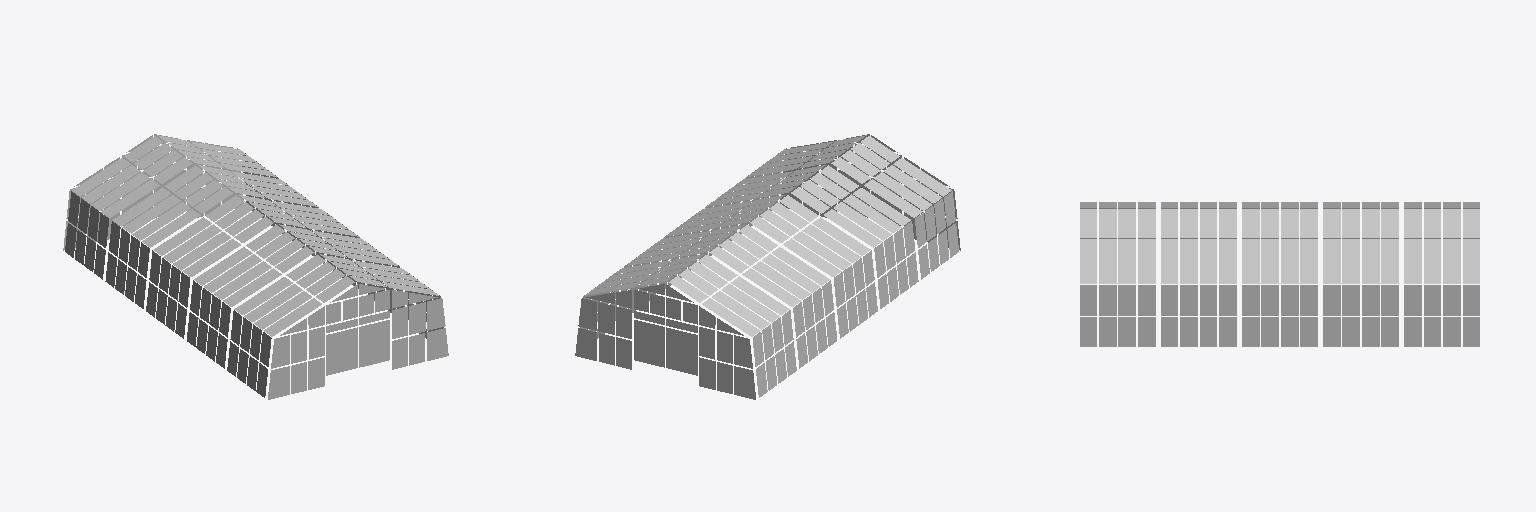
The model's file is glasshouse small glass.obj.
3 renders of one model, left to right at view 1: azimuth 30°, elevation 25°; view 2: azimuth 150°, elevation 25°; view 3: azimuth 270°, elevation 25°, orthographic.
Bounding box in the file's own units: 7.18 × 3.57 × 13.96.